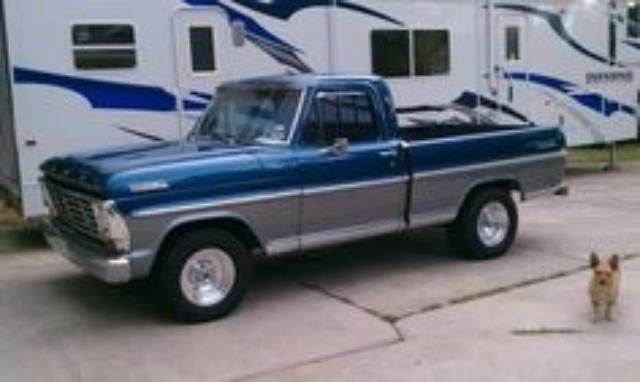pickup-truck: (35, 73, 569, 323)
